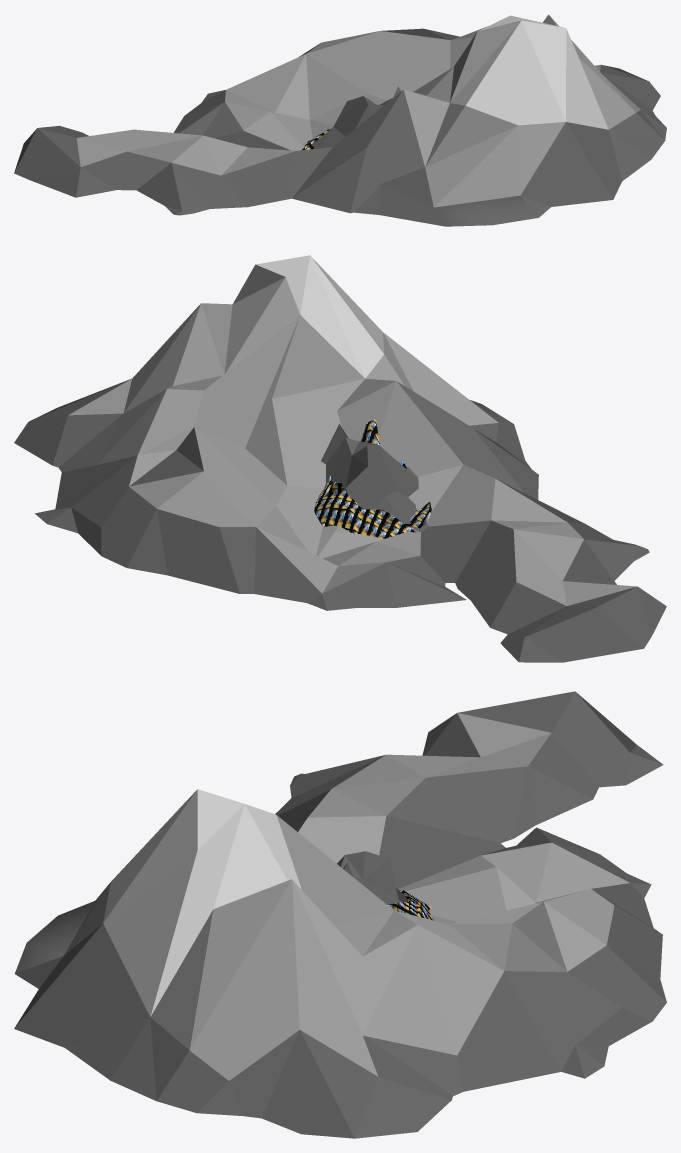
The model's file is Montains01.fbx.
The picture shows the model from 3 angles, top to bottom: view 1: azimuth 30°, elevation 25°; view 2: azimuth 150°, elevation 25°; view 3: azimuth 270°, elevation 25°; orthographic projection. The views are drawn at different scales.
Visible parts, largest first — view 1: polySurface401, polySurface400; view 2: polySurface401, polySurface400, polySurface403; view 3: polySurface401, polySurface400.
Boxes of the visible parts, box(x1,y1,x2,y2) form: polySurface401: box(14, 14, 666, 226); polySurface400: box(312, 86, 401, 148); polySurface401: box(14, 255, 666, 662); polySurface400: box(321, 424, 428, 531); polySurface403: box(314, 418, 431, 538); polySurface401: box(14, 691, 666, 1138); polySurface400: box(337, 851, 408, 904).
Size of the model in its own units: 105 by 26.15 by 68.52.
